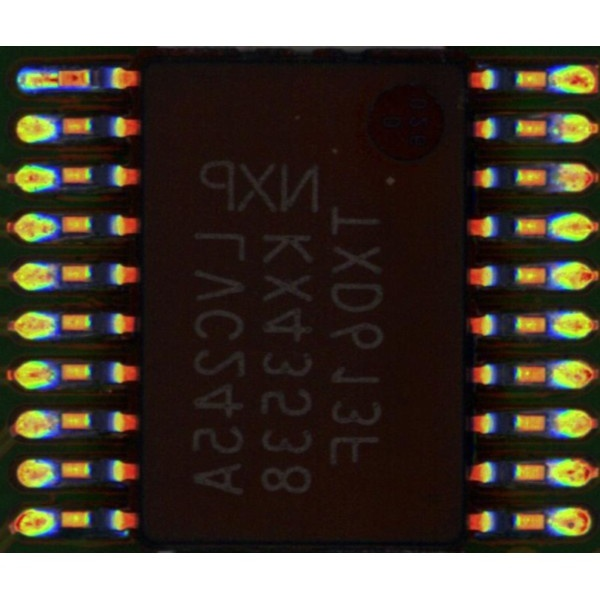Bad_podu: (40, 74, 72, 84)
